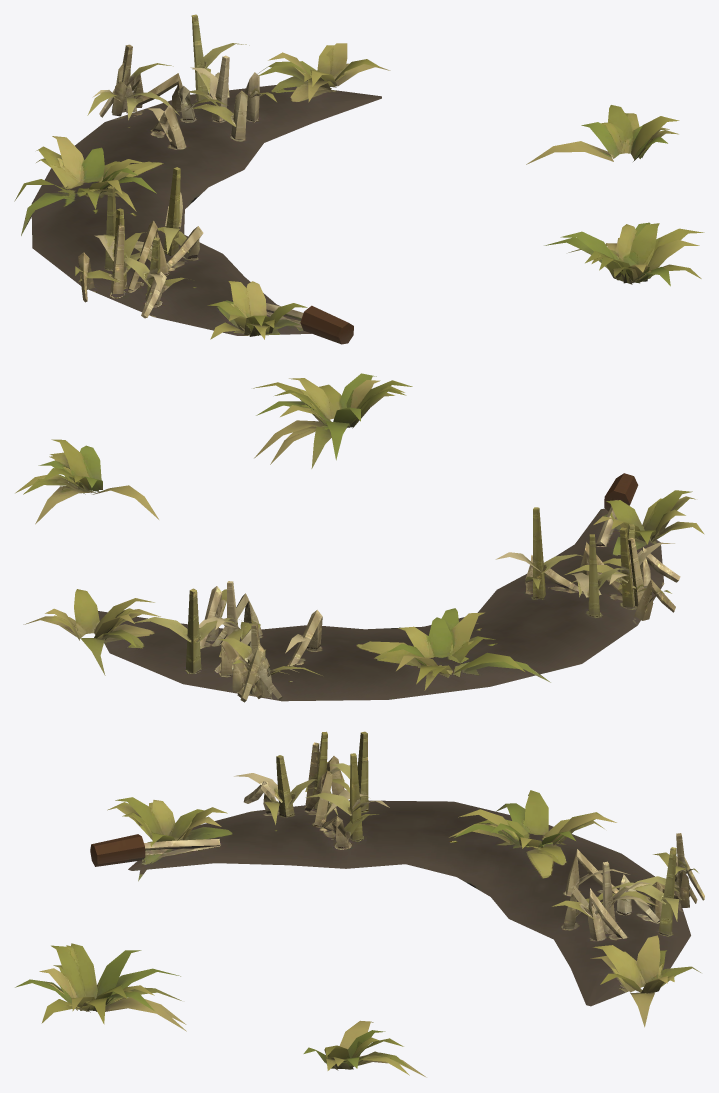
Rendered from rough-marsh-3.hq.glb.
The picture shows the model from 3 angles, top to bottom: view 1: azimuth 30°, elevation 25°; view 2: azimuth 150°, elevation 25°; view 3: azimuth 270°, elevation 25°; orthographic projection.
Visible parts, largest first — view 1: rough-marsh-3; view 2: rough-marsh-3; view 3: rough-marsh-3.
Boxes of the visible parts, x1,y1,x2,y2 form: rough-marsh-3: [14, 14, 704, 344]; rough-marsh-3: [15, 373, 704, 702]; rough-marsh-3: [15, 731, 704, 1077].
Bounding box in the file's own units: 1.55 × 0.2486 × 1.52.
1 material, 1 textured.
